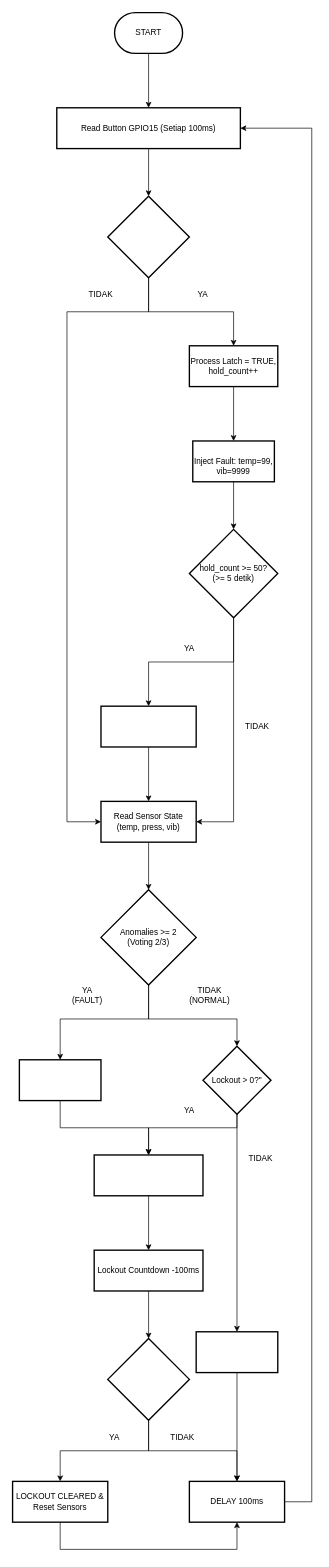
This 329x1567 diagram has some shape labels left out. Here are the shapes that lost their labels. From the top down, the box of each, then its label:
(107, 195, 190, 278): Button HIGH? (Sticky Latch)
(100, 705, 197, 747): Inject Pressure = 0 hPa
(18, 1059, 101, 1101): FAULT DETECTED: Set Lockout Minor/Critical
(93, 1154, 203, 1196): LED Red ON, Yellow ON
(195, 1331, 278, 1373): NORMAL Heartbeat: LED Green ON
(107, 1338, 190, 1421): Lockout Done? (Remaining=0)
